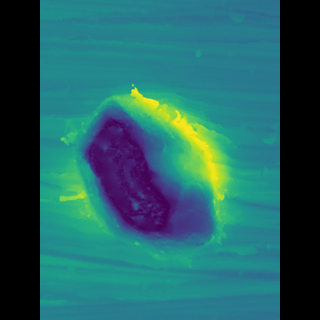Loch: (85, 79, 223, 268)
